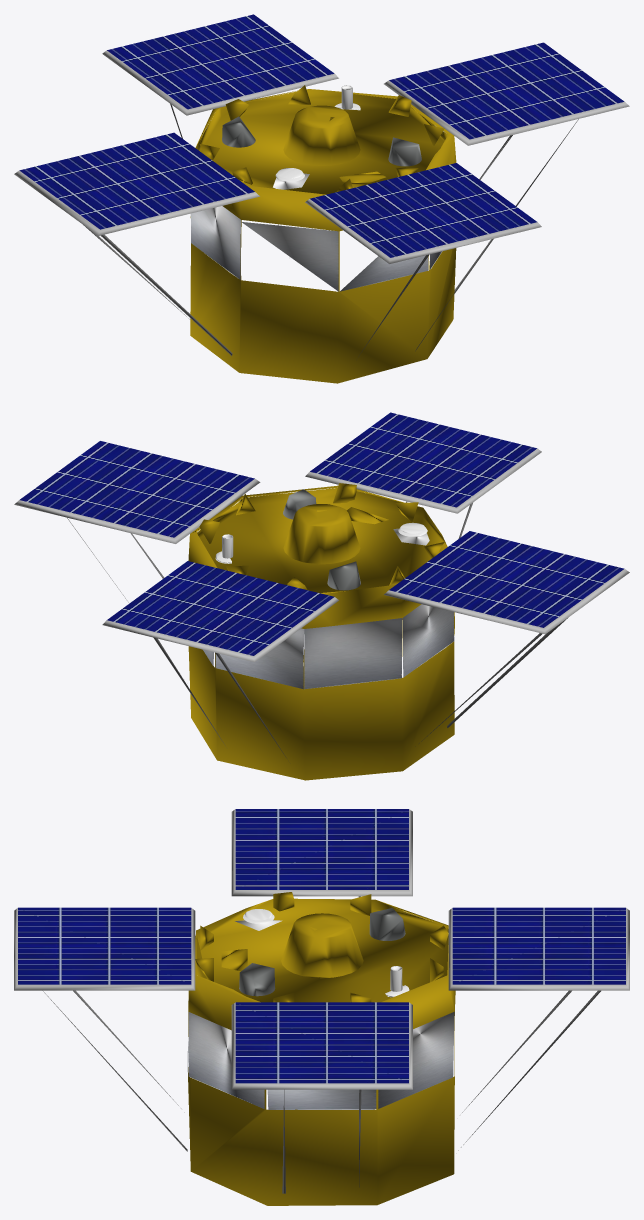
File: acrimsat-b.glb
3 views of the same model, one above another, from view 1: azimuth 30°, elevation 25°; view 2: azimuth 150°, elevation 25°; view 3: azimuth 270°, elevation 25° (orthographic). The views are drawn at different scales.
Visible parts, largest first — view 1: Acrimsat_vFINAL [Layer2], Acrimsat_vFINAL [Layer1], Acrimsat_vFINAL [Layer7], Acrimsat_vFINAL [Layer3], Acrimsat_vFINAL [Layer5], Acrimsat_vFINAL [Layer6]; view 2: Acrimsat_vFINAL [Layer2], Acrimsat_vFINAL [Layer1], Acrimsat_vFINAL [Layer3], Acrimsat_vFINAL [Layer7], Acrimsat_vFINAL [Layer5], Acrimsat_vFINAL [Layer6]; view 3: Acrimsat_vFINAL [Layer2], Acrimsat_vFINAL [Layer1], Acrimsat_vFINAL [Layer7], Acrimsat_vFINAL [Layer3], Acrimsat_vFINAL [Layer5], Acrimsat_vFINAL [Layer6].
Part boxes in pixels (<box>): Acrimsat_vFINAL [Layer2]: <box>19,14,624,257</box>; Acrimsat_vFINAL [Layer1]: <box>190,85,456,383</box>; Acrimsat_vFINAL [Layer7]: <box>14,50,629,356</box>; Acrimsat_vFINAL [Layer3]: <box>190,206,441,291</box>; Acrimsat_vFINAL [Layer5]: <box>222,116,421,166</box>; Acrimsat_vFINAL [Layer6]: <box>273,85,360,189</box>; Acrimsat_vFINAL [Layer2]: <box>20,412,624,655</box>; Acrimsat_vFINAL [Layer1]: <box>188,483,454,780</box>; Acrimsat_vFINAL [Layer3]: <box>203,604,454,689</box>; Acrimsat_vFINAL [Layer7]: <box>14,448,629,757</box>; Acrimsat_vFINAL [Layer5]: <box>283,489,360,590</box>; Acrimsat_vFINAL [Layer6]: <box>215,522,429,563</box>; Acrimsat_vFINAL [Layer2]: <box>18,809,625,1083</box>; Acrimsat_vFINAL [Layer1]: <box>188,892,455,1205</box>; Acrimsat_vFINAL [Layer7]: <box>14,809,629,1193</box>; Acrimsat_vFINAL [Layer3]: <box>187,1011,454,1109</box>; Acrimsat_vFINAL [Layer5]: <box>239,908,405,996</box>; Acrimsat_vFINAL [Layer6]: <box>235,909,409,997</box>.
Bounding box in the file's own units: 11051 × 4201 × 10351.
Materials: 7 (7 with a texture image).
